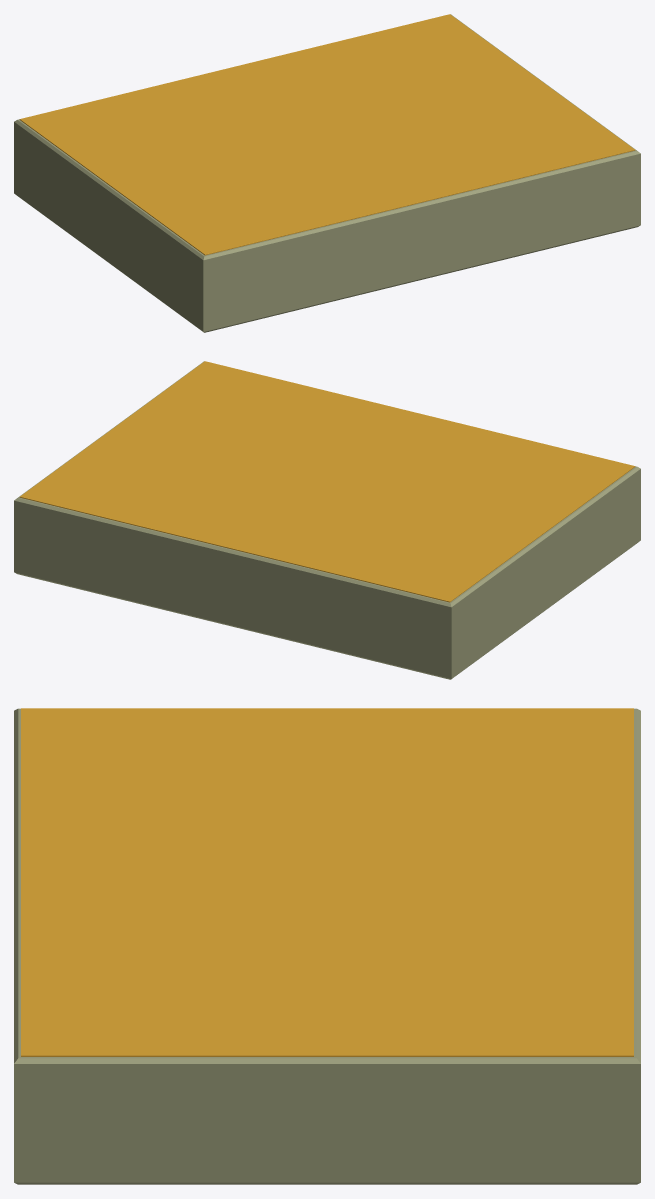
File: StarIsland.obj
3 renders of one model, top to bottom at view 1: azimuth 30°, elevation 25°; view 2: azimuth 150°, elevation 25°; view 3: azimuth 270°, elevation 25°, orthographic. The views are drawn at different scales.
Parts seen in each view (by area): view 1: StarIsland; view 2: StarIsland; view 3: StarIsland.
Part boxes in pixels (x1,y1,x2,y2): StarIsland: [14, 14, 640, 332]; StarIsland: [14, 361, 640, 679]; StarIsland: [14, 708, 640, 1184].
Bounding box in the file's own units: 24 × 4.05 × 18.
